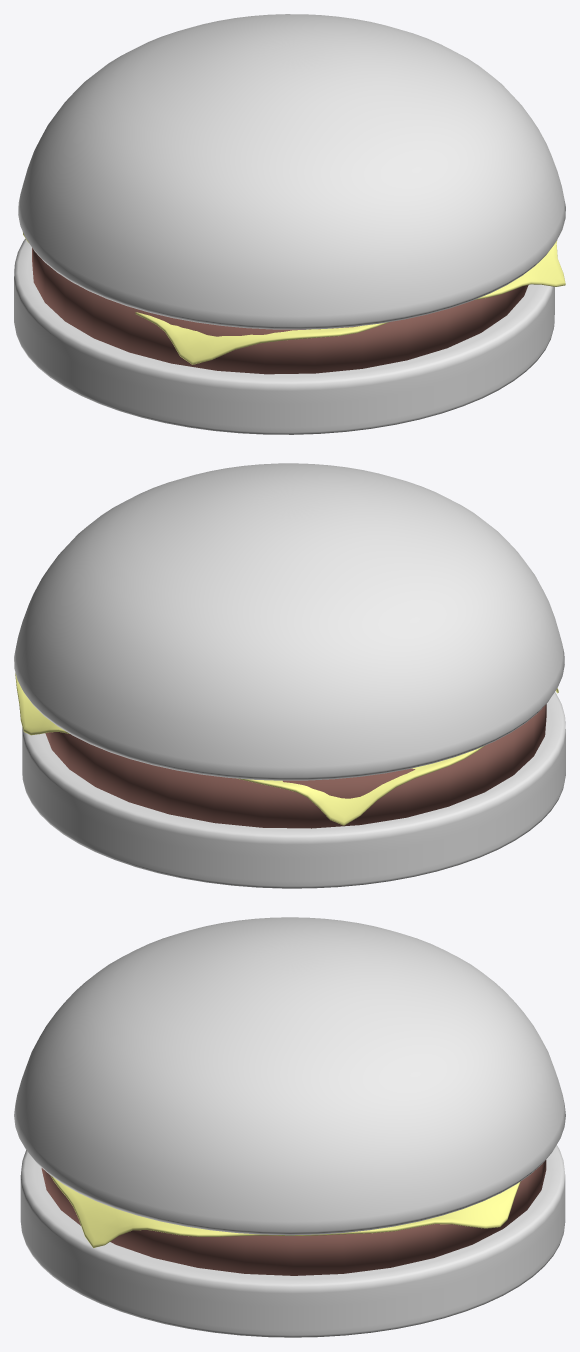
File: Burger.fbx
3 renders of one model, top to bottom at view 1: azimuth 30°, elevation 25°; view 2: azimuth 150°, elevation 25°; view 3: azimuth 270°, elevation 25°, orthographic.
Visible parts, largest first — view 1: Sphere.006, Sphere.007, Circle, Plane.001; view 2: Sphere.006, Sphere.007, Circle, Plane.001; view 3: Sphere.006, Sphere.007, Circle, Plane.001.
Part boxes in pixels (bbox=[...]): Sphere.006: bbox=[18, 14, 565, 329]; Sphere.007: bbox=[14, 238, 554, 434]; Circle: bbox=[32, 248, 528, 374]; Plane.001: bbox=[23, 232, 565, 364]; Sphere.006: bbox=[14, 463, 564, 780]; Sphere.007: bbox=[22, 692, 565, 888]; Circle: bbox=[45, 704, 546, 828]; Plane.001: bbox=[15, 673, 558, 825]; Sphere.006: bbox=[14, 917, 565, 1235]; Sphere.007: bbox=[20, 1145, 565, 1337]; Circle: bbox=[41, 1160, 546, 1275]; Plane.001: bbox=[50, 1175, 520, 1247].
Size of the model in its own units: 18.37 by 9.89 by 18.25.
